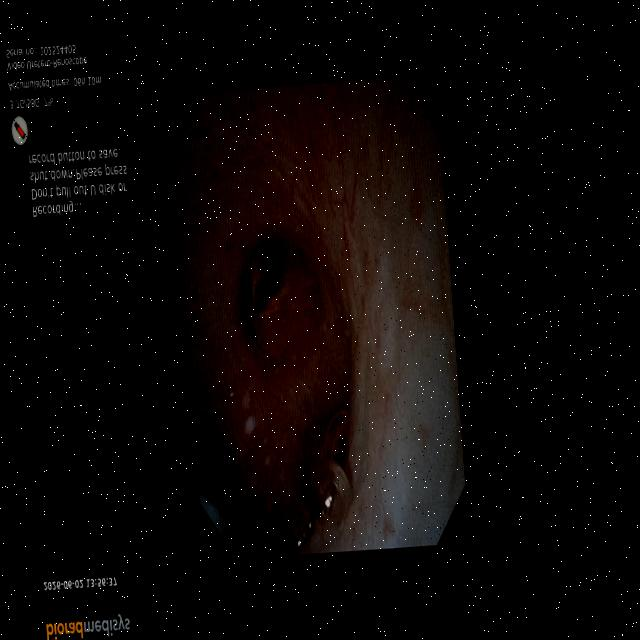stone-new: (248, 247, 283, 313)
